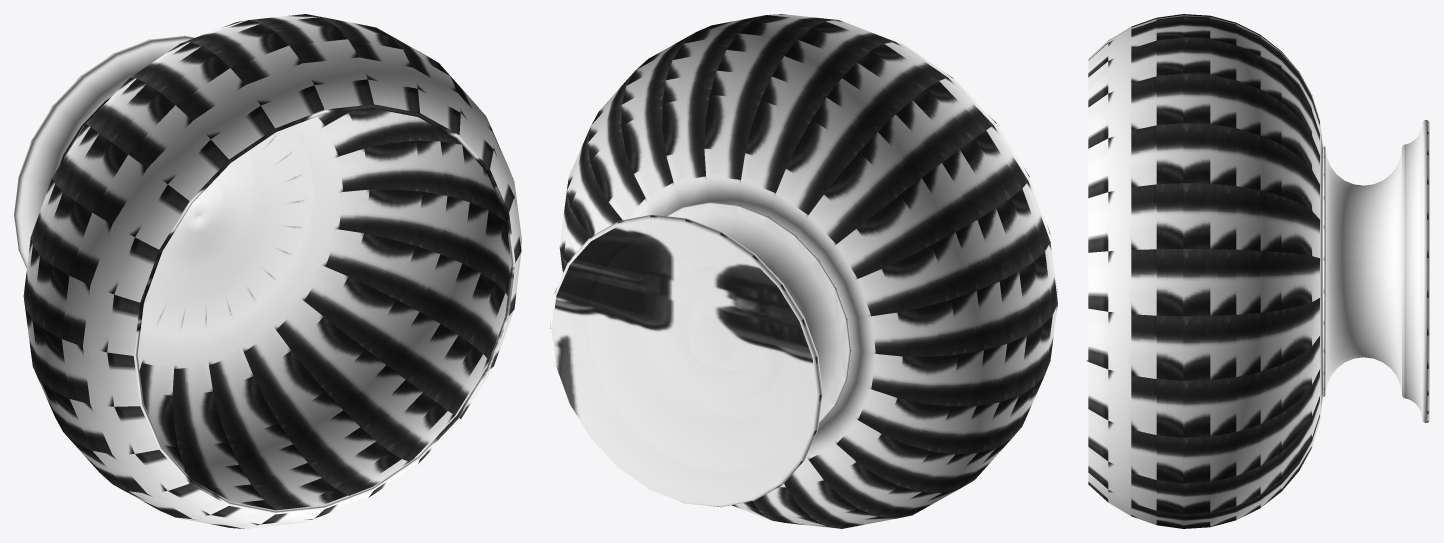
The model's file is model_scale.obj.
3 views of the same model, side by side, from view 1: azimuth 30°, elevation 25°; view 2: azimuth 150°, elevation 25°; view 3: azimuth 270°, elevation 25° (orthographic). The views are drawn at different scales.
Visible parts, largest first — view 1: mesh1_mesh1-geometry; view 2: mesh1_mesh1-geometry; view 3: mesh1_mesh1-geometry.
Boxes of the visible parts, x1,y1,x2,y2 form: mesh1_mesh1-geometry: (14, 14, 521, 528); mesh1_mesh1-geometry: (550, 14, 1057, 528); mesh1_mesh1-geometry: (1086, 14, 1429, 528).
Bounding box in the file's own units: 0.1394 × 0.1394 × 0.0927.
